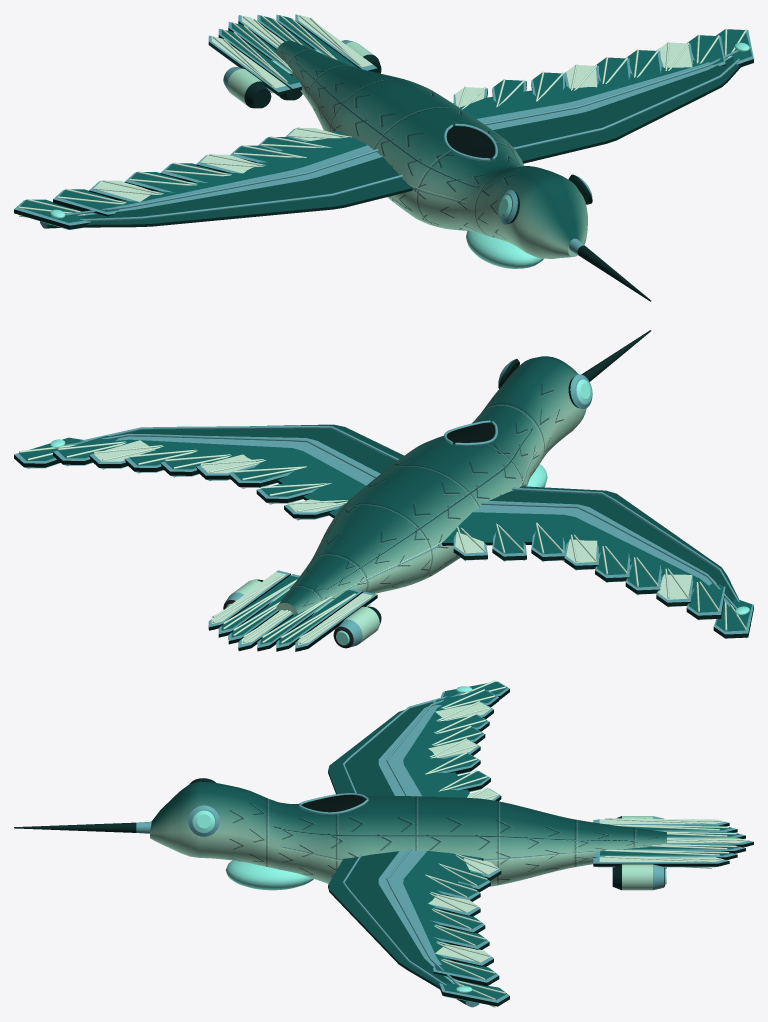
3 views of the same model, one above another, from view 1: azimuth 30°, elevation 25°; view 2: azimuth 150°, elevation 25°; view 3: azimuth 270°, elevation 25° (orthographic). The views are drawn at different scales.
Visible parts, largest first — view 1: hummingbird_hull; view 2: hummingbird_hull; view 3: hummingbird_hull.
Boxes of the visible parts, box(x1,y1,x2,y2) form: hummingbird_hull: box(14, 14, 753, 301); hummingbird_hull: box(14, 330, 753, 651); hummingbird_hull: box(14, 680, 753, 1007).
Size of the model in its own units: 17 by 2.47 by 16.53.
Materials: 1 (1 with a texture image).
